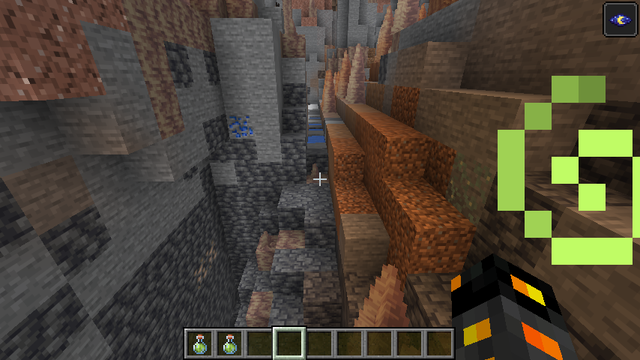iron: (193, 243, 219, 284)
lapis: (226, 113, 254, 140)
